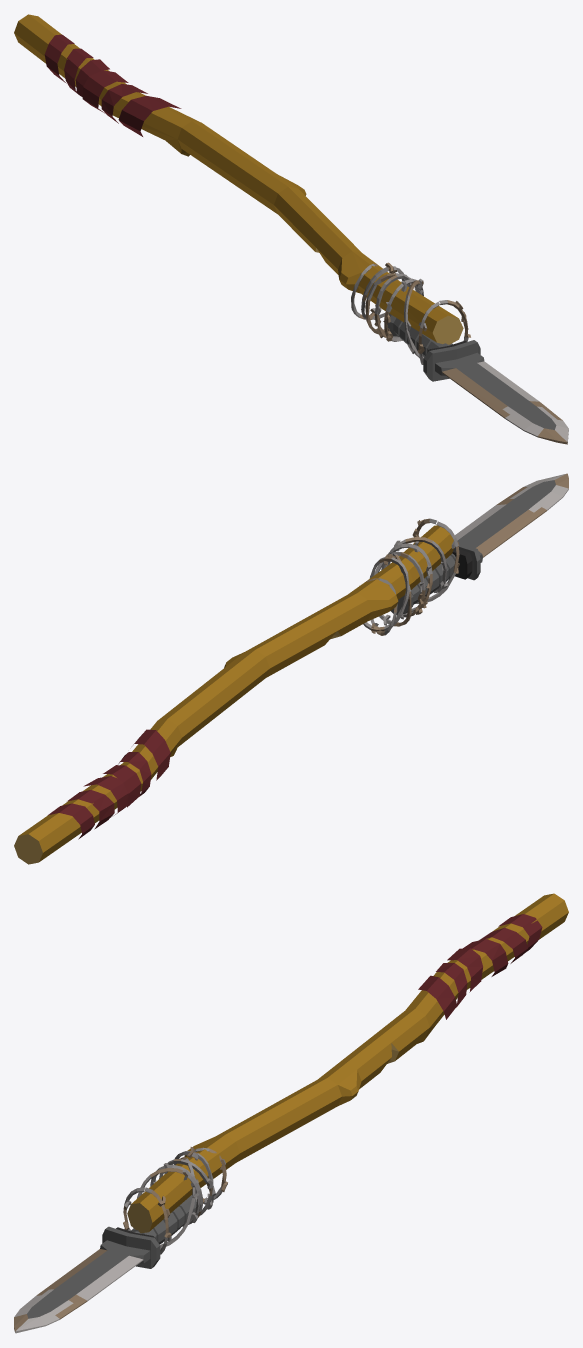
File: harpoonGun.glb
The picture shows the model from 3 angles, top to bottom: view 1: azimuth 30°, elevation 25°; view 2: azimuth 150°, elevation 25°; view 3: azimuth 330°, elevation 25°; orthographic projection.
Parts seen in each view (by area): view 1: Spear; view 2: Spear; view 3: Spear.
Part boxes in pixels (x1=…): Spear: x1=14, y1=14, x2=568, y2=444; Spear: x1=14, y1=473, x2=568, y2=864; Spear: x1=14, y1=893, x2=568, y2=1333.
Size of the model in its own units: 0.1366 by 0.154 by 2.01.
1 material, 1 textured.
